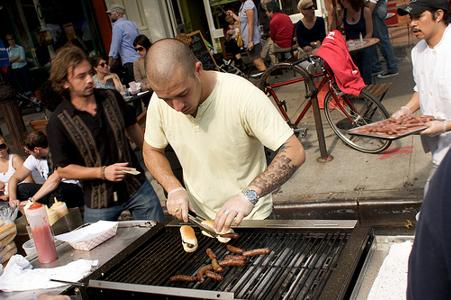person: (137, 39, 305, 234)
